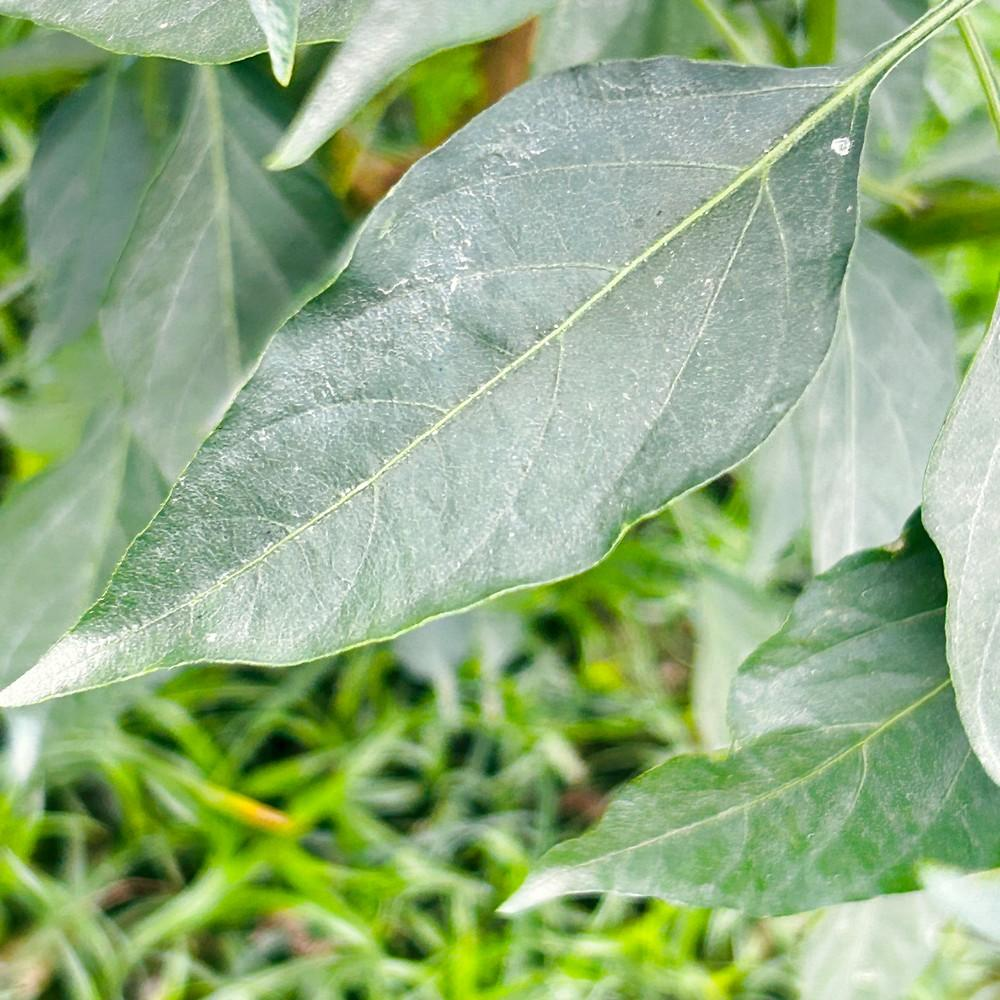Daun Cabai Sehat: (0, 53, 868, 712), (498, 499, 1000, 919)
